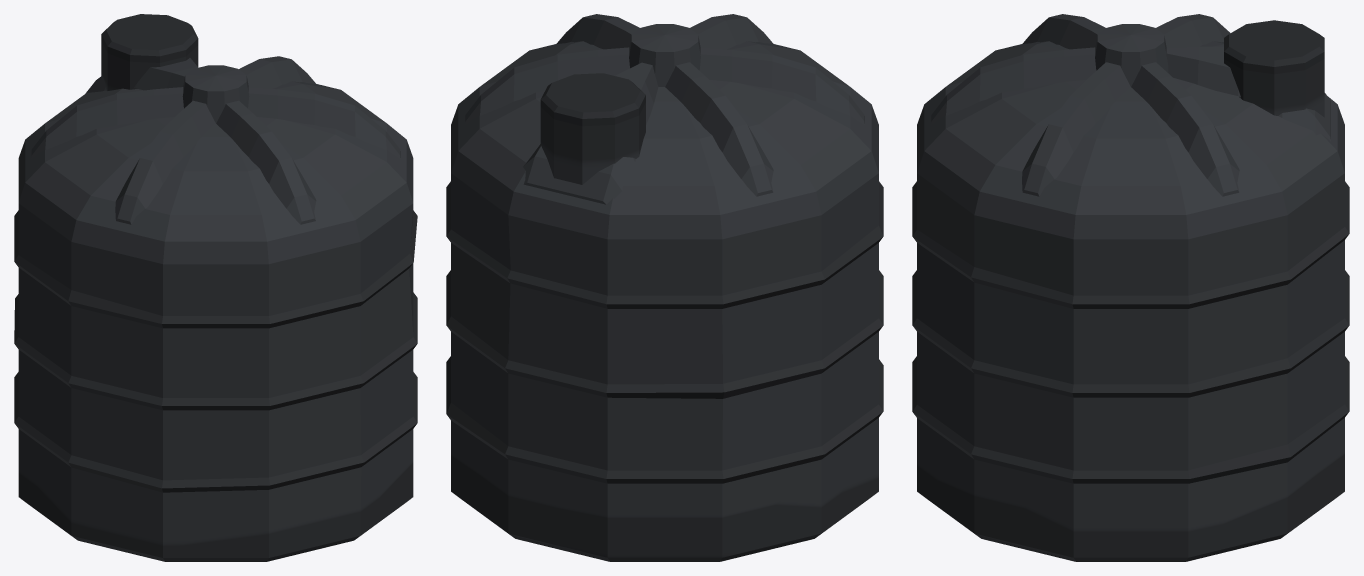
The model's file is SM_Prop_WaterTank_04.fbx.
3 views of the same model, side by side, from view 1: azimuth 30°, elevation 25°; view 2: azimuth 150°, elevation 25°; view 3: azimuth 270°, elevation 25° (orthographic). The views are drawn at different scales.
Parts seen in each view (by area): view 1: SM_Prop_WaterTank_04; view 2: SM_Prop_WaterTank_04; view 3: SM_Prop_WaterTank_04.
Boxes of the visible parts, bbox=[...] form: SM_Prop_WaterTank_04: bbox=[14, 14, 417, 561]; SM_Prop_WaterTank_04: bbox=[446, 14, 883, 561]; SM_Prop_WaterTank_04: bbox=[912, 14, 1349, 561].
Size of the model in its own units: 194 by 216 by 194.
